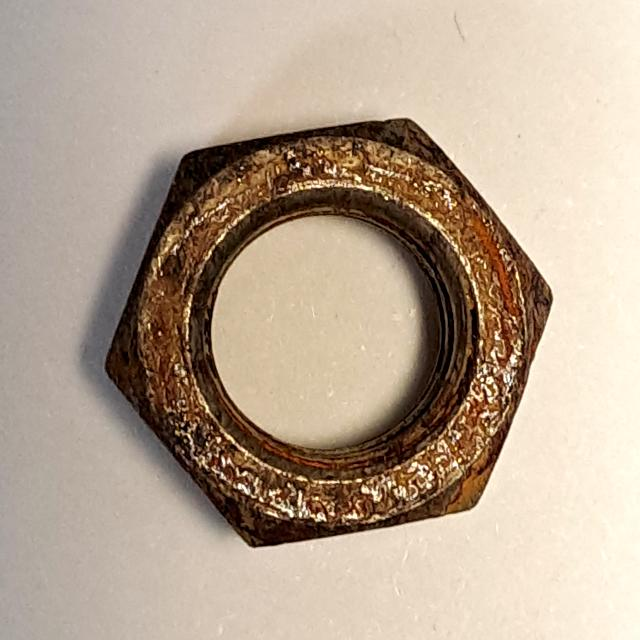Rust: (87, 102, 564, 565)
